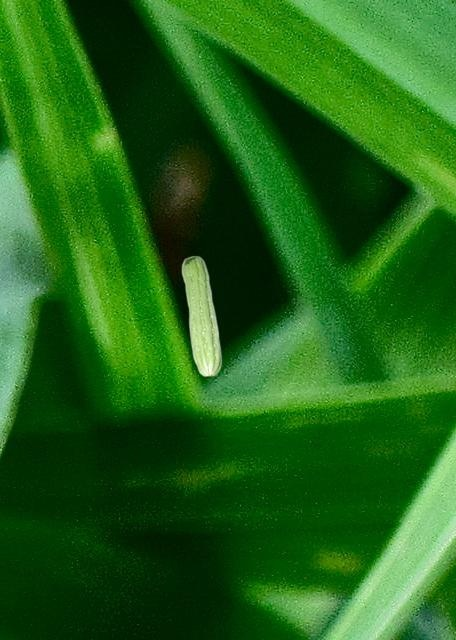ampalaya: (179, 255, 223, 378)
